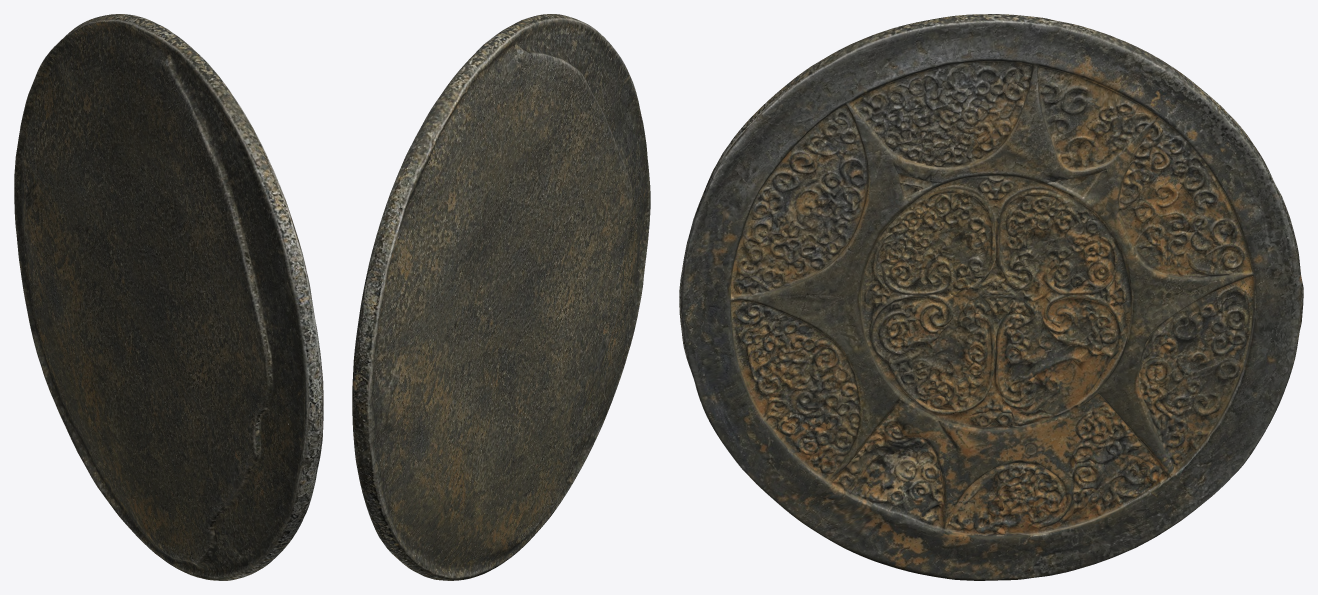
File: cloud-mirror-web-mobile.glb
The picture shows the model from 3 angles, left to right: view 1: azimuth 30°, elevation 25°; view 2: azimuth 150°, elevation 25°; view 3: azimuth 270°, elevation 25°; orthographic projection. The views are drawn at different scales.
Parts seen in each view (by area): view 1: tripo_node_4533c6f9-ca47-4391-a8e8-314606ab59f9; view 2: tripo_node_4533c6f9-ca47-4391-a8e8-314606ab59f9; view 3: tripo_node_4533c6f9-ca47-4391-a8e8-314606ab59f9.
Boxes of the visible parts, x1,y1,x2,y2 form: tripo_node_4533c6f9-ca47-4391-a8e8-314606ab59f9: (14,14,323,580); tripo_node_4533c6f9-ca47-4391-a8e8-314606ab59f9: (352,14,650,580); tripo_node_4533c6f9-ca47-4391-a8e8-314606ab59f9: (679,14,1303,580).
Bounding box in the file's own units: 0.0626 × 0.9737 × 0.9793.
1 material, 1 textured.
